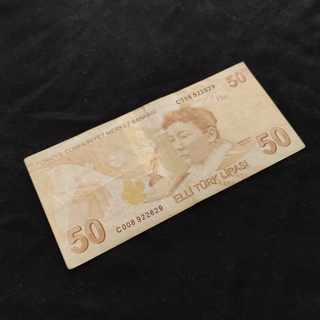50TLBack: (22, 61, 306, 270)
